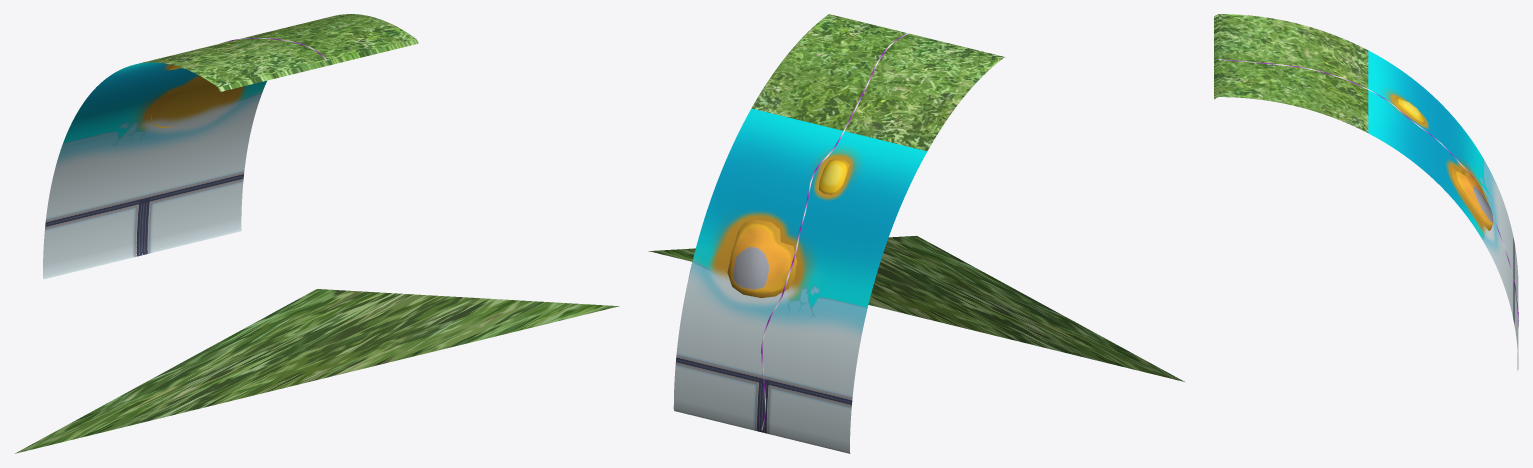
Rendered from L_Sea.fbx.
3 views of the same model, side by side, from view 1: azimuth 30°, elevation 25°; view 2: azimuth 150°, elevation 25°; view 3: azimuth 270°, elevation 25° (orthographic). The views are drawn at different scales.
Parts seen in each view (by area): view 1: LocSea, Obj; view 2: LocSea, Obj, WireS; view 3: LocSea, WireS.
Boxes of the visible parts, x1=… form: LocSea: x1=43, y1=14, x2=418, y2=279; Obj: x1=15, y1=289, x2=619, y2=453; LocSea: x1=673, y1=14, x2=1005, y2=453; Obj: x1=648, y1=235, x2=1184, y2=381; WireS: x1=761, y1=33, x2=908, y2=430; LocSea: x1=1214, y1=14, x2=1518, y2=370; WireS: x1=1218, y1=59, x2=1518, y2=327.
Size of the model in its own units: 200 by 101 by 102.
